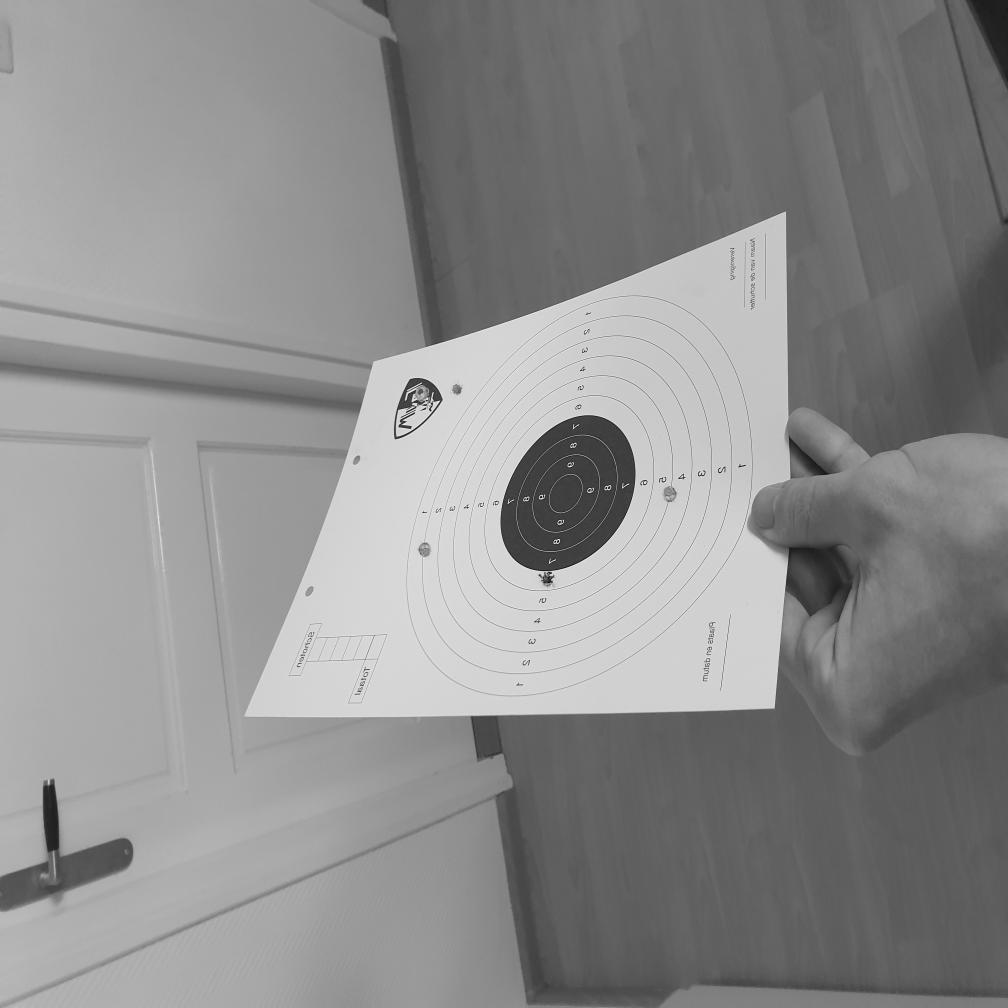0: (450, 380, 464, 397), (415, 385, 429, 402)
2: (417, 542, 432, 558)
4: (662, 486, 676, 503)
6: (539, 572, 555, 588)
Target: (406, 292, 752, 698)
black_contour: (500, 416, 636, 570)
